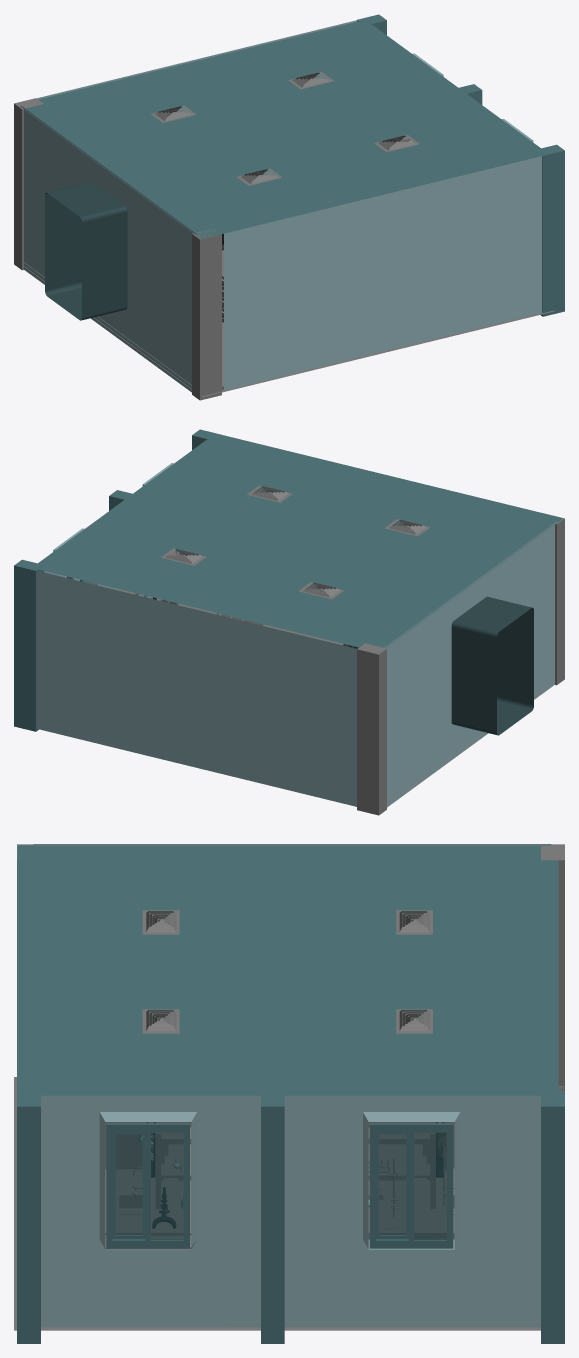
The model's file is mistnost.glb.
The picture shows the model from 3 angles, top to bottom: view 1: azimuth 30°, elevation 25°; view 2: azimuth 150°, elevation 25°; view 3: azimuth 270°, elevation 25°; orthographic projection. The views are drawn at different scales.
Parts seen in each view (by area): view 1: pPlane27, pPlane26, Cube.001, pCube91, pCube44, pCube45, pPlane1, pPlane24; view 2: pPlane27, pPlane24, Cube.001, pCube45, pCube43, pCube91; view 3: pPlane27, polySurface653, pCube100, pCube98, pCube42, pCube43, pCube44, polySurface149, pPlane1, polySurface241, pCube45, polySurface149.002 (+6 smaller).
Boxes of the visible parts, x1=… form: pPlane27: x1=24, y1=21, x2=548, y2=238; pPlane26: x1=224, y1=156, x2=542, y2=390; Cube.001: x1=20, y1=105, x2=196, y2=392; pCube91: x1=192, y1=229, x2=221, y2=400; pCube44: x1=541, y1=144, x2=564, y2=316; pCube45: x1=14, y1=98, x2=43, y2=270; pPlane1: x1=24, y1=266, x2=554, y2=397; pPlane24: x1=37, y1=20, x2=357, y2=175; pPlane27: x1=38, y1=433, x2=562, y2=648; pPlane24: x1=36, y1=570, x2=356, y2=806; Cube.001: x1=381, y1=521, x2=557, y2=807; pCube45: x1=357, y1=643, x2=386, y2=815; pCube43: x1=14, y1=559, x2=44, y2=731; pCube91: x1=555, y1=518, x2=564, y2=685; pPlane27: x1=17, y1=845, x2=558, y2=1095; polySurface653: x1=41, y1=1095, x2=540, y2=1327; pCube100: x1=369, y1=1123, x2=453, y2=1248; pCube98: x1=106, y1=1123, x2=189, y2=1248; pCube42: x1=261, y1=1091, x2=284, y2=1343; pCube43: x1=541, y1=1091, x2=564, y2=1343; pCube44: x1=17, y1=1091, x2=40, y2=1343; polySurface149: x1=368, y1=1127, x2=454, y2=1239; pPlane1: x1=14, y1=1077, x2=540, y2=1330; polySurface241: x1=105, y1=1177, x2=191, y2=1234; pCube45: x1=541, y1=844, x2=564, y2=1090; polySurface149.002: x1=105, y1=1122, x2=191, y2=1169.
Bounding box in the file's own units: 6.37 × 2.43 × 5.05.
15 materials, 1 textured.
